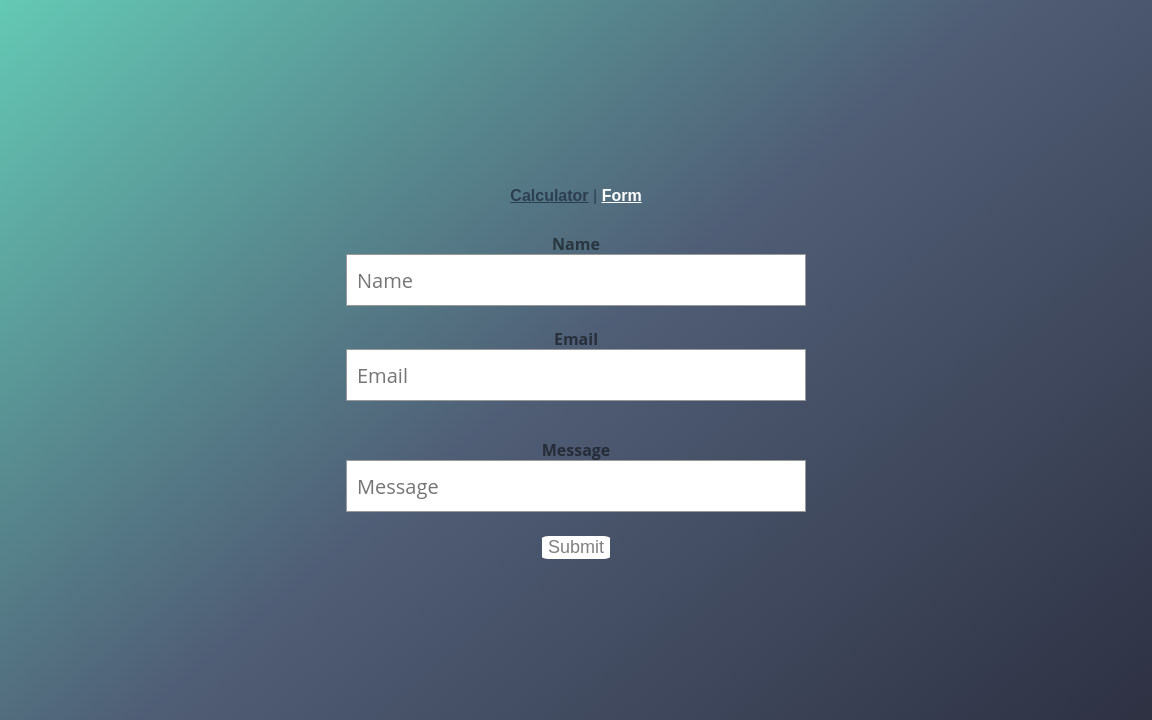
form › should enable button correctly
Check: the button with id "submitButton" is disabled, box [542,536,610,559]
Type "TestName" into the field with id "nameInput" at {"x": 576, "y": 280}, box [346,254,806,306]
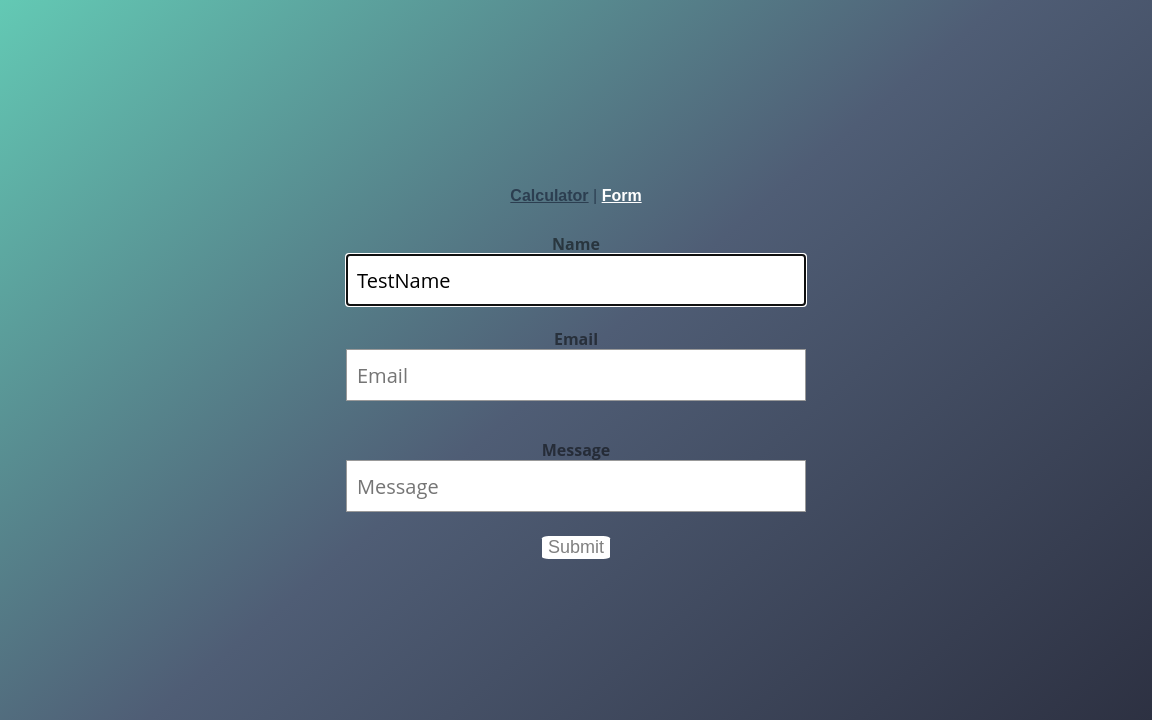
Type "test@test.com" into the field with id "emailInput" at {"x": 576, "y": 375}, box [346,349,806,401]
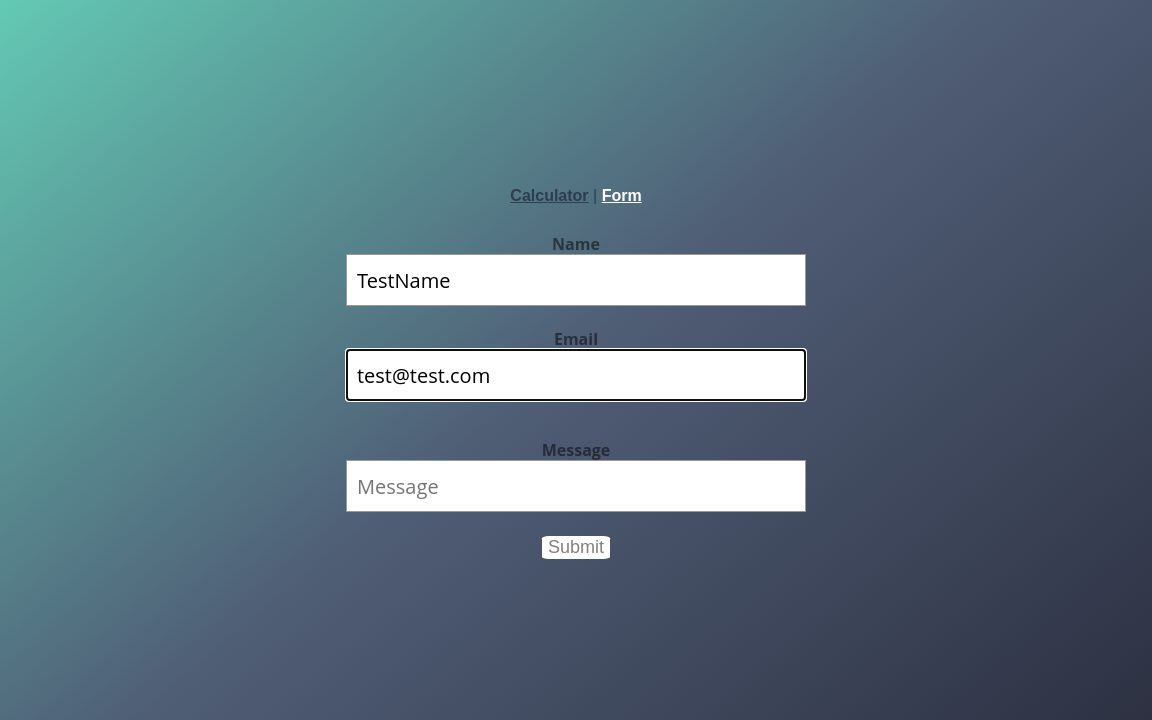
Type "test message" into the field with id "messageInput" at {"x": 576, "y": 486}, box [346,460,806,512]
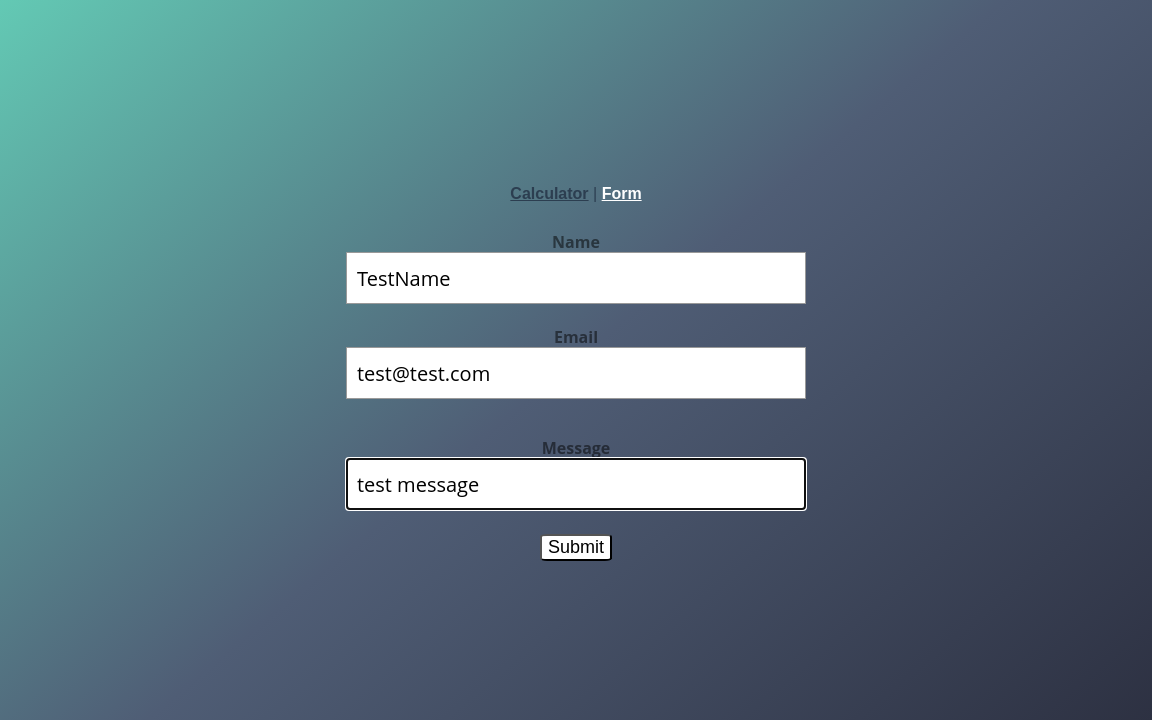
Check: the button with id "submitButton" is enabled, box [540,534,612,561]
